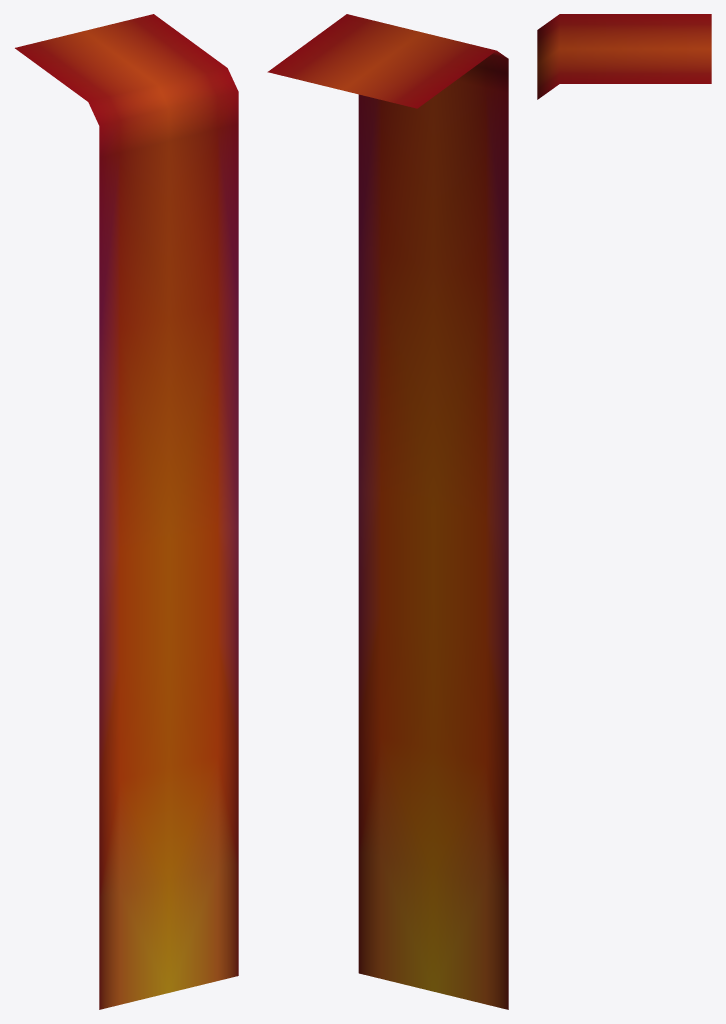
Rendered from Watefall_Lava_01.FBX.
3 views of the same model, side by side, from view 1: azimuth 30°, elevation 25°; view 2: azimuth 150°, elevation 25°; view 3: azimuth 270°, elevation 25° (orthographic). The views are drawn at different scales.
Parts seen in each view (by area): view 1: Waterfall_Lava_01; view 2: Waterfall_Lava_01; view 3: Waterfall_Lava_01.
Part boxes in pixels (box(x1,y1,x2,y2)): Waterfall_Lava_01: box(15, 14, 238, 1009); Waterfall_Lava_01: box(267, 14, 508, 1009); Waterfall_Lava_01: box(537, 14, 711, 99).
Bounding box in the file's own units: 60 × 370 × 63.2.
